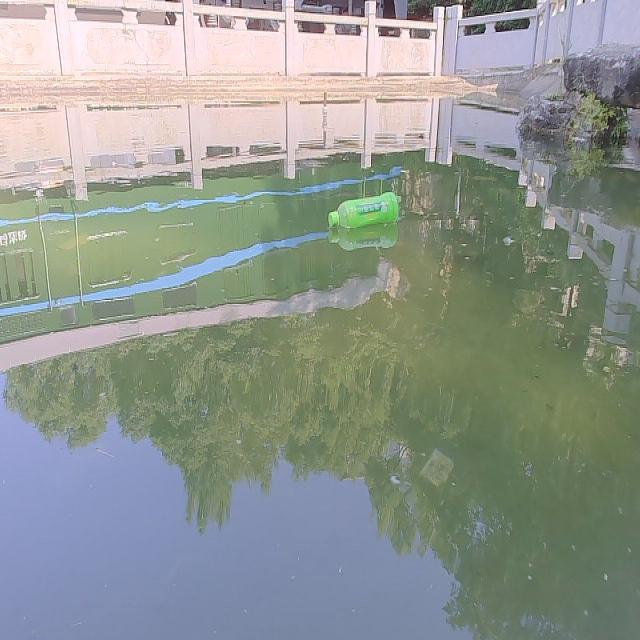bottle: (324, 191, 401, 228)
